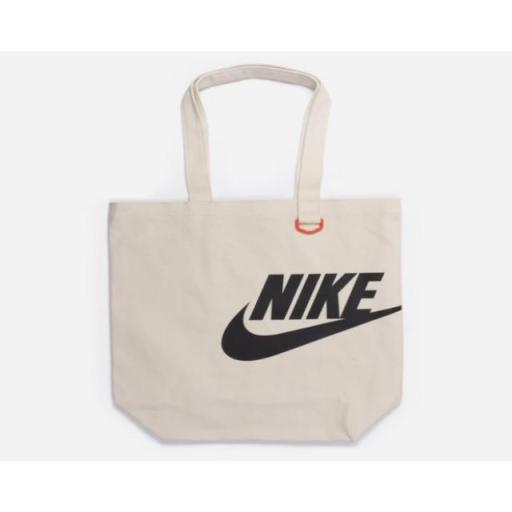Nike: (218, 309, 385, 361), (250, 272, 385, 324)
